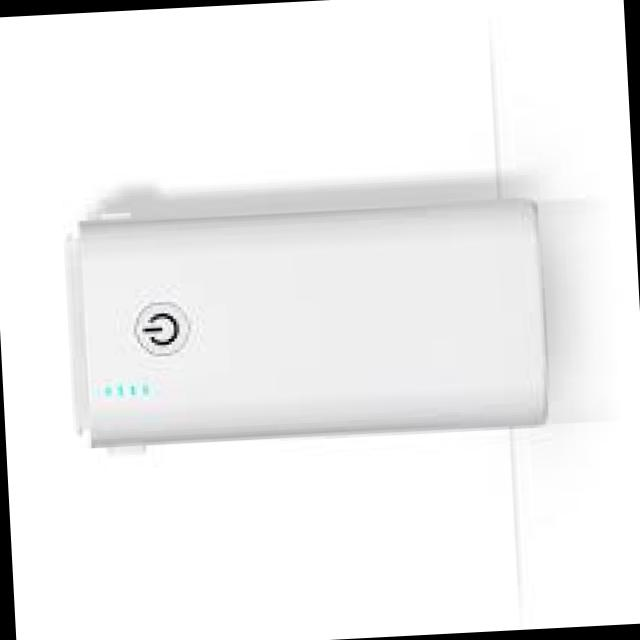portable-charger: (54, 188, 560, 460)
